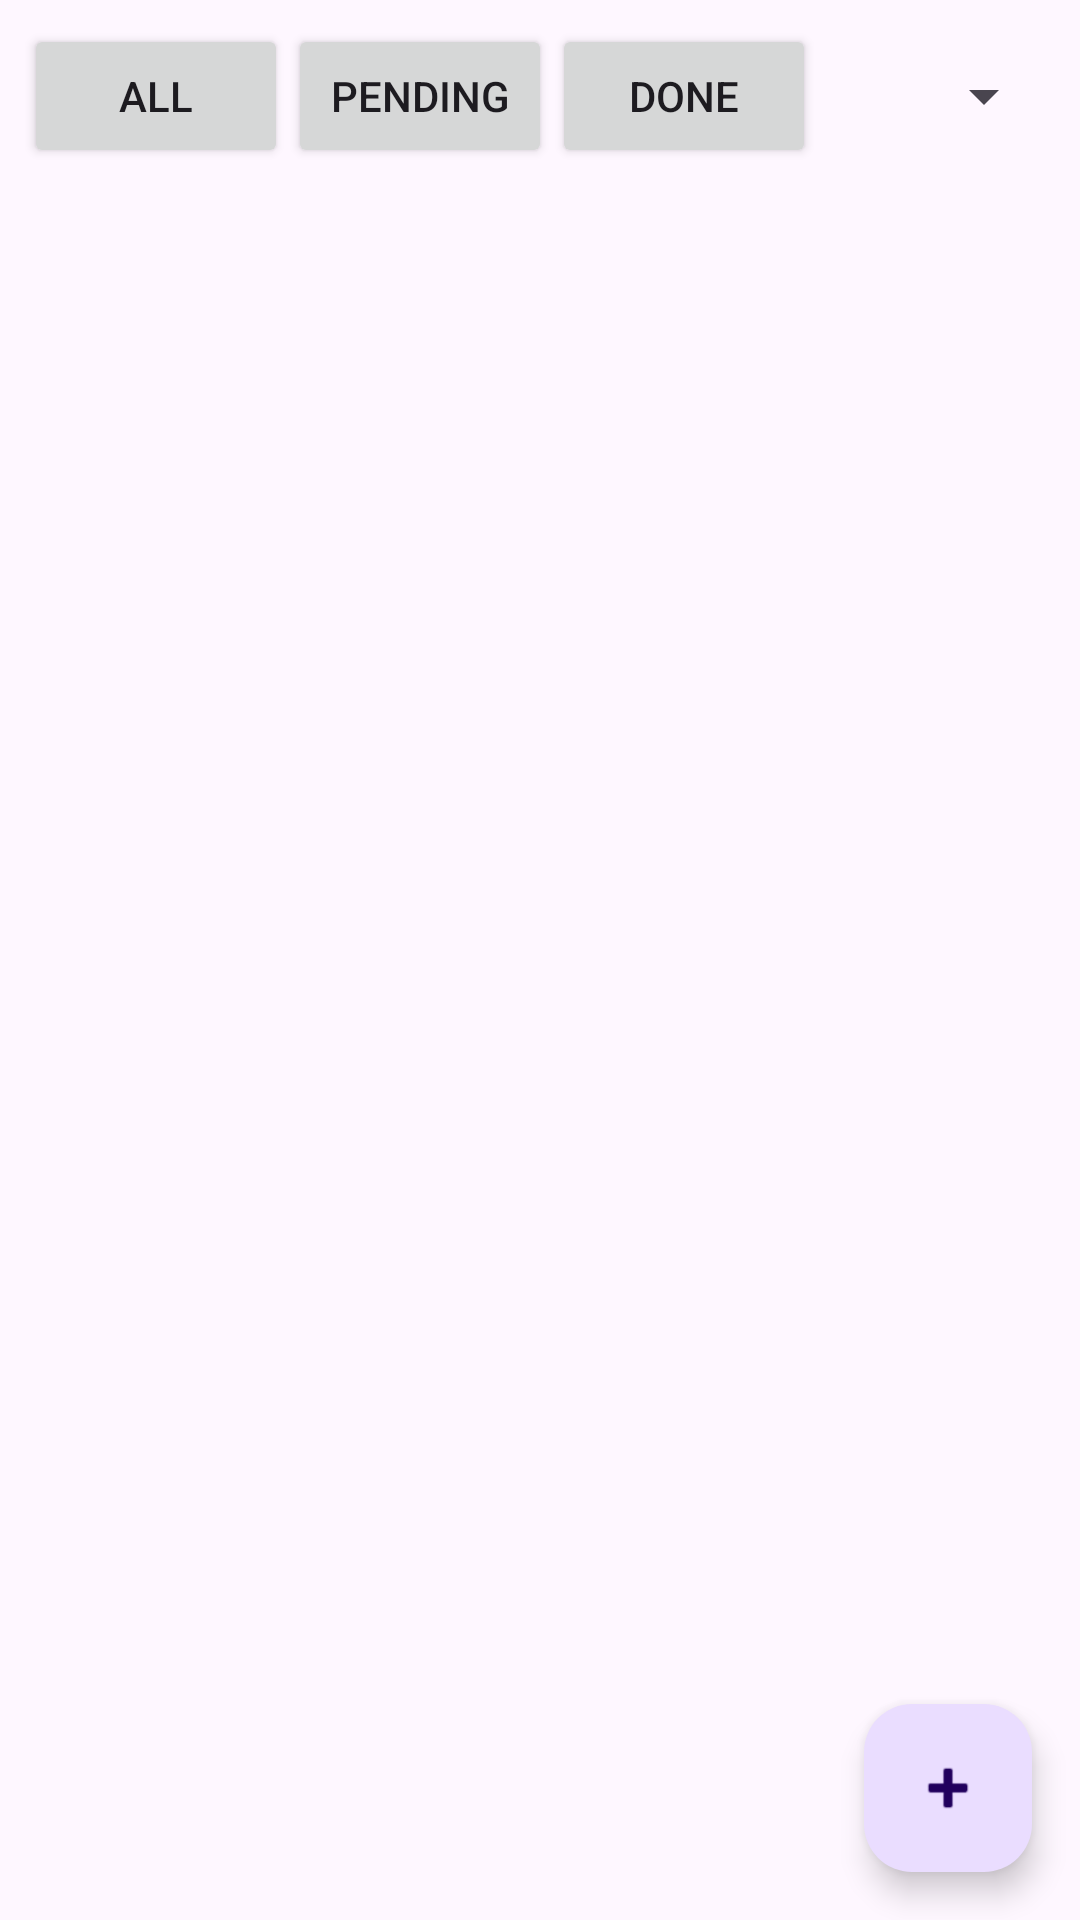

Icons on this 1080px x 1920px Android screen, each with its box as box=[x1, y1, x2, y2]:
Add a project: box=[864, 1704, 1032, 1872]
